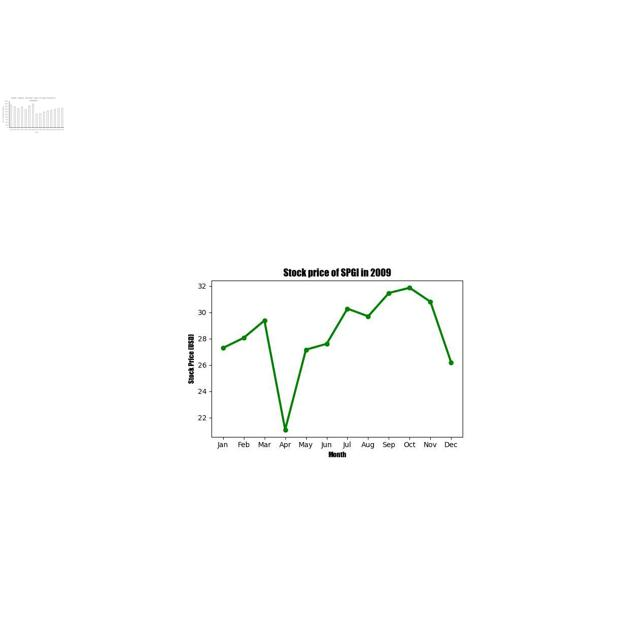Graph: (171, 236, 495, 479), (1, 95, 65, 133)
